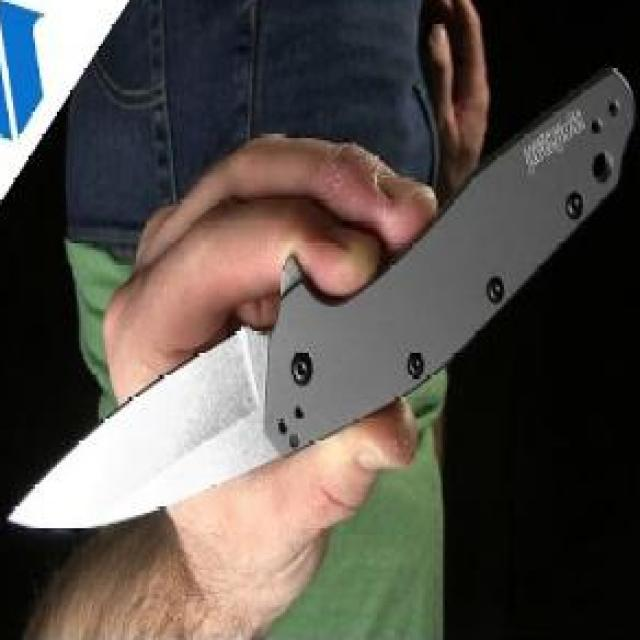knife: (2, 139, 458, 548)
